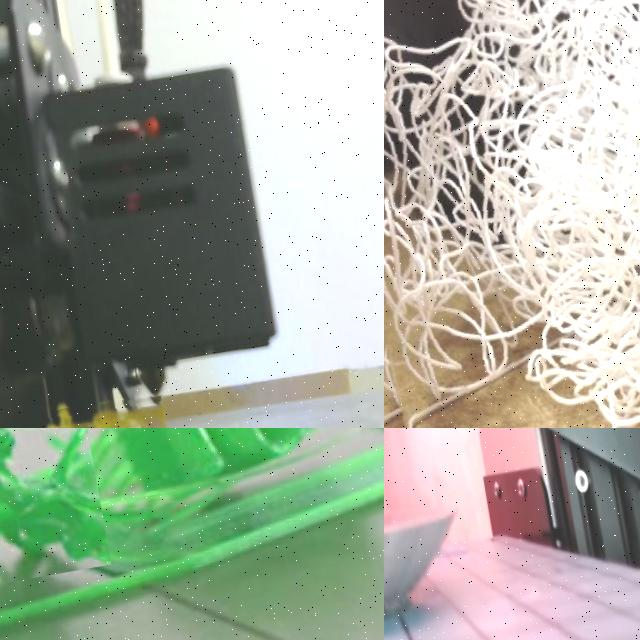spaghetti: (384, 0, 640, 428), (46, 405, 166, 428)
